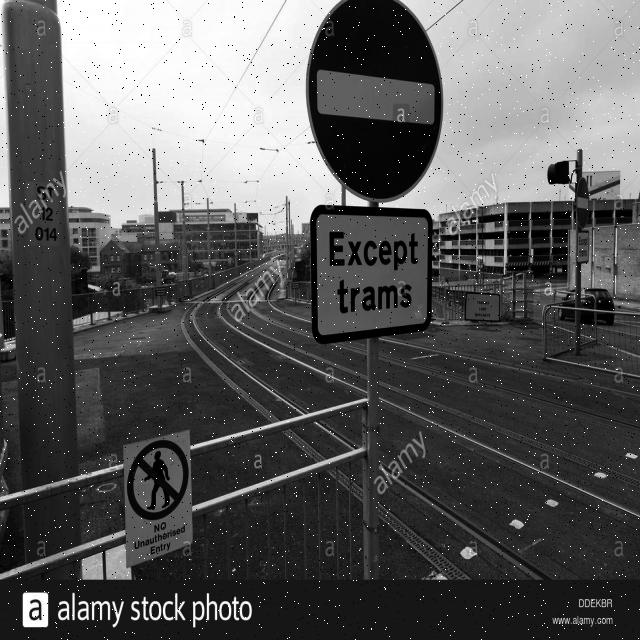no entry: (307, 1, 442, 201)
